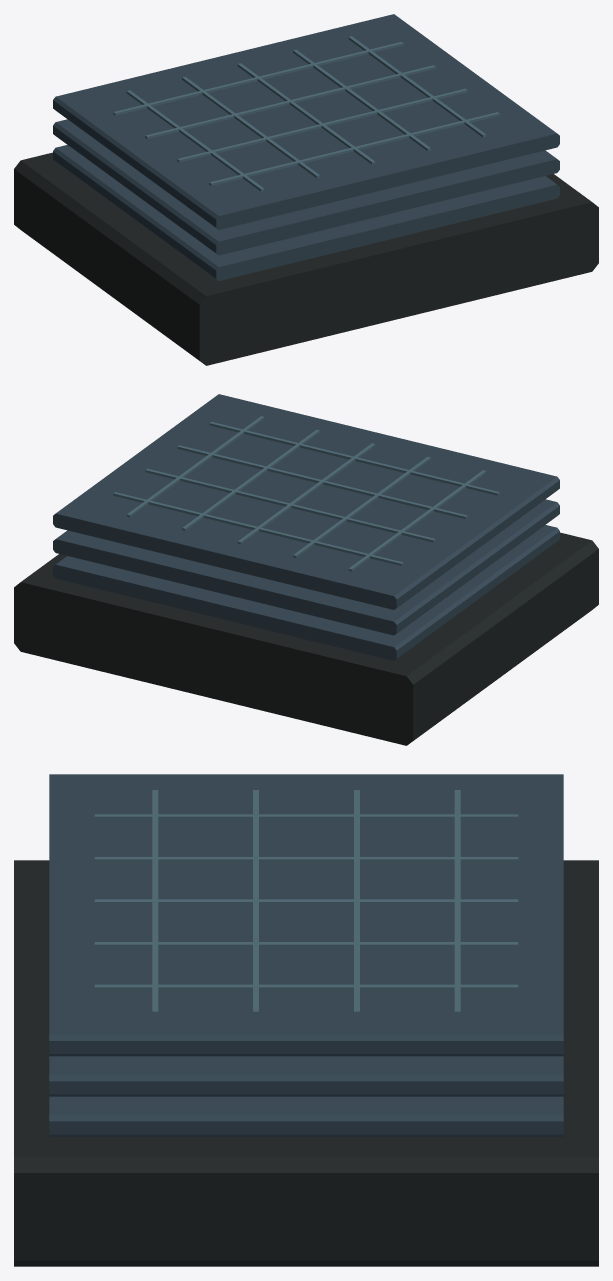
Rendered from Silicon.gltf.
3 renders of one model, top to bottom at view 1: azimuth 30°, elevation 25°; view 2: azimuth 150°, elevation 25°; view 3: azimuth 270°, elevation 25°, orthographic. The views are drawn at different scales.
Visible parts, largest first — view 1: Silicon; view 2: Silicon; view 3: Silicon.
Boxes of the visible parts, x1,y1,x2,y2 form: Silicon: (14,14,598,365); Silicon: (14,394,598,745); Silicon: (14,774,598,1266).
Size of the model in its own units: 0.36 by 0.119 by 0.29.
